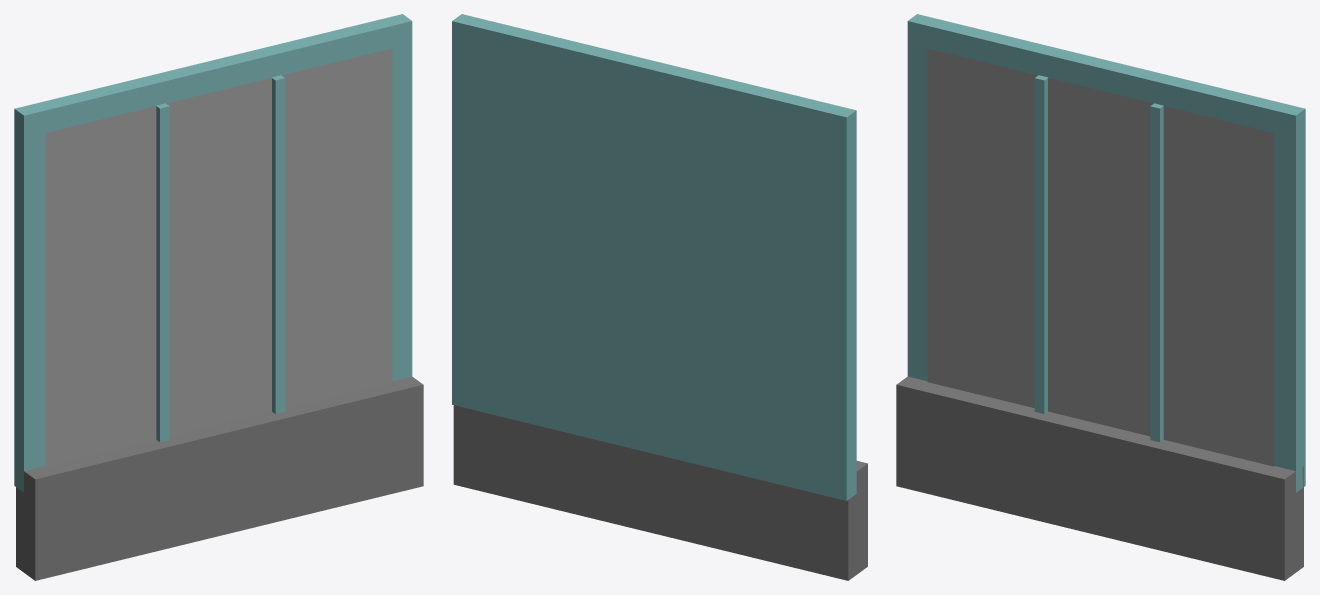
The model's file is window_shop.glb.
3 renders of one model, left to right at view 1: azimuth 30°, elevation 25°; view 2: azimuth 150°, elevation 25°; view 3: azimuth 330°, elevation 25°, orthographic.
Parts seen in each view (by area): view 1: window_shop; view 2: window_shop; view 3: window_shop.
Part boxes in pixels (x1=…): window_shop: x1=14, y1=14, x2=423, y2=580; window_shop: x1=452, y1=14, x2=867, y2=580; window_shop: x1=896, y1=14, x2=1305, y2=580.
Bounding box in the file's own units: 2.8 × 3.15 × 0.26.
